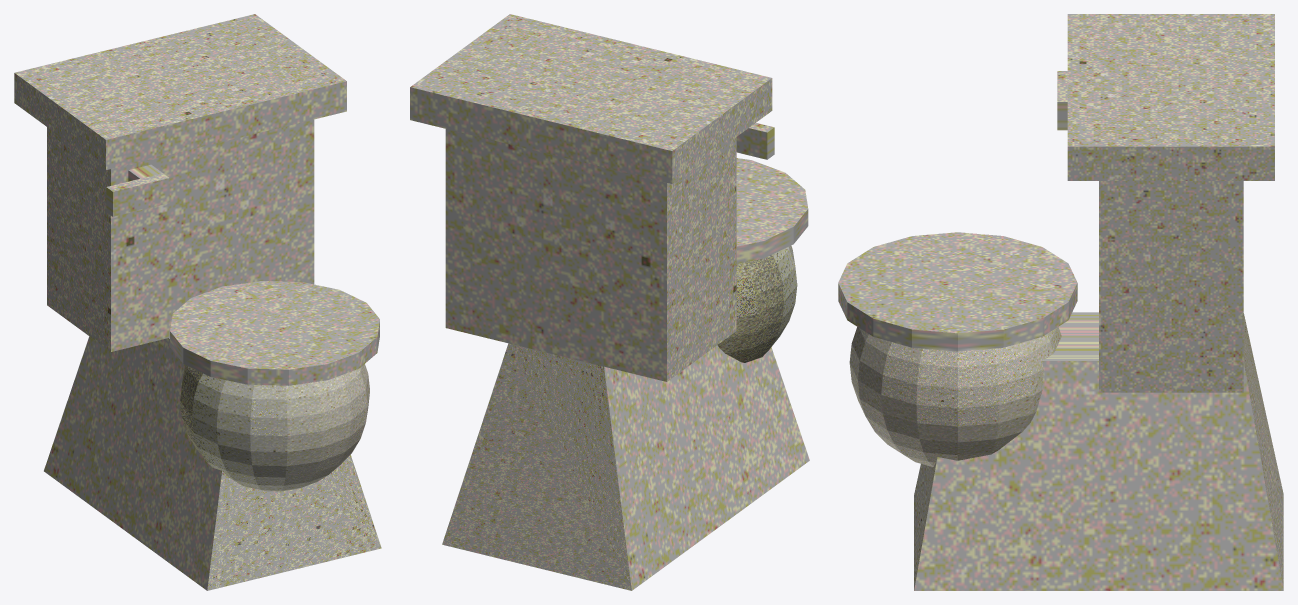
File: toilet.glb
3 renders of one model, left to right at view 1: azimuth 30°, elevation 25°; view 2: azimuth 150°, elevation 25°; view 3: azimuth 270°, elevation 25°, orthographic. The views are drawn at different scales.
Parts seen in each view (by area): view 1: env_toilet-col; view 2: env_toilet-col; view 3: env_toilet-col.
Boxes of the visible parts, bbox=[...] form: env_toilet-col: bbox=[14, 14, 381, 590]; env_toilet-col: bbox=[410, 14, 809, 590]; env_toilet-col: bbox=[838, 14, 1283, 590].
Bounding box in the file's own units: 0.8735 × 1.42 × 1.24.
1 material, 1 textured.
